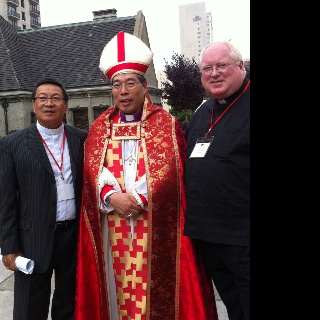without_mask: (200, 48, 239, 95), (111, 72, 144, 114), (33, 85, 64, 122)
